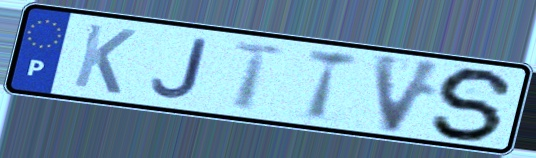J: (148, 36, 211, 102)
K: (69, 21, 140, 98)
S: (428, 65, 520, 143)
T: (303, 46, 363, 124), (229, 39, 289, 113)
V: (370, 50, 449, 137)
